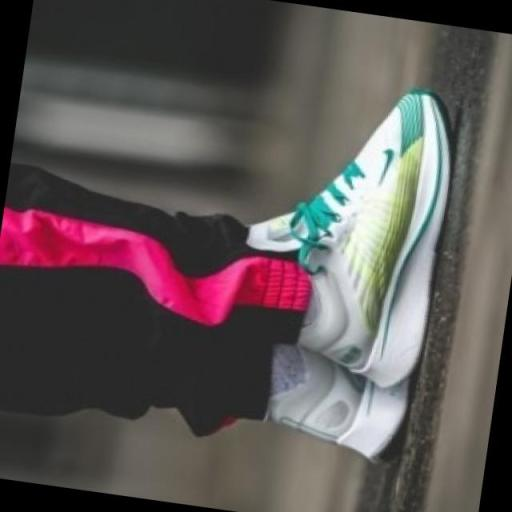Nike: (374, 142, 399, 190)
